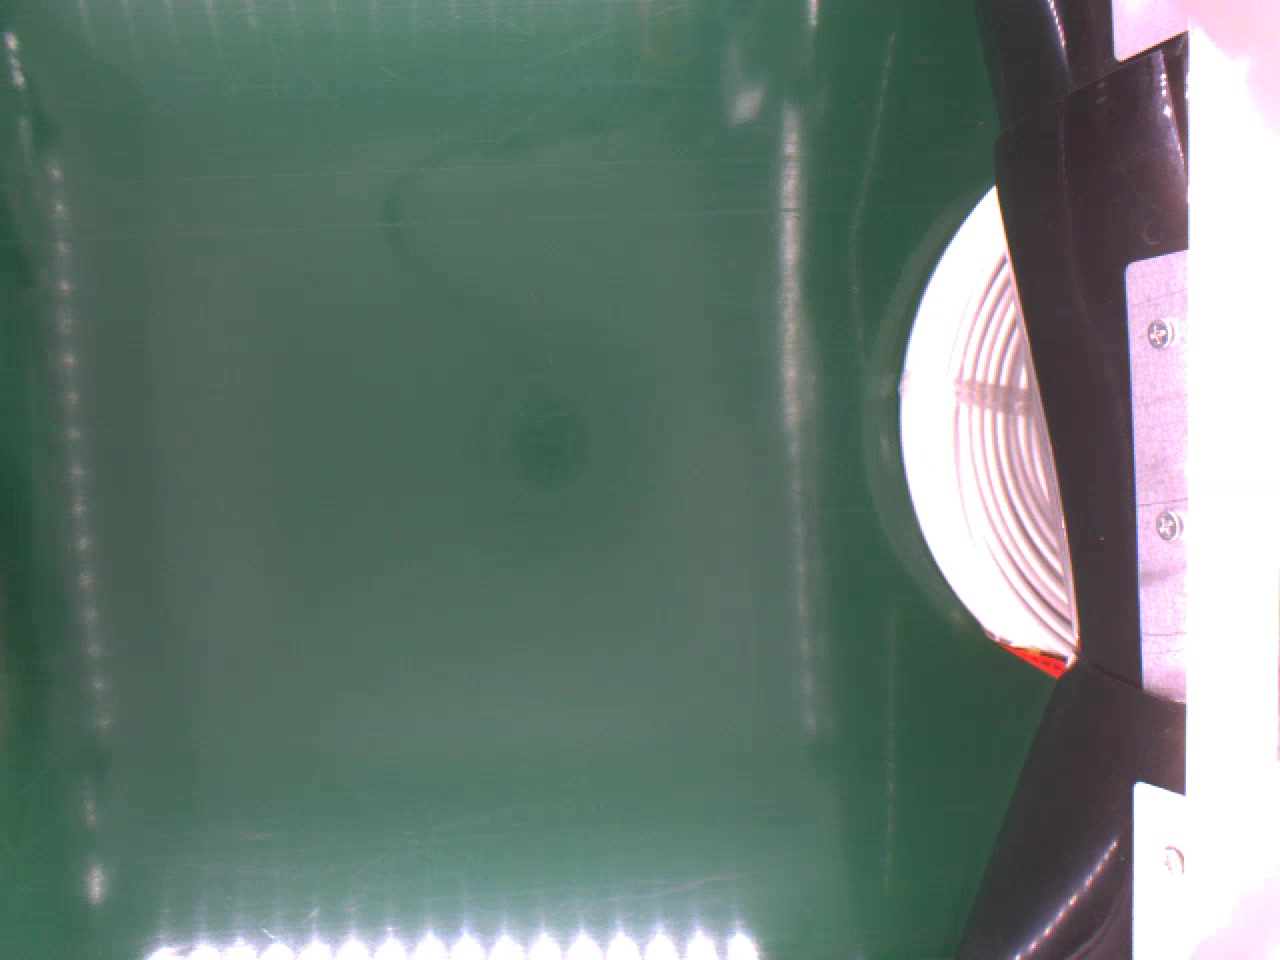white: (894, 183, 1080, 676)
